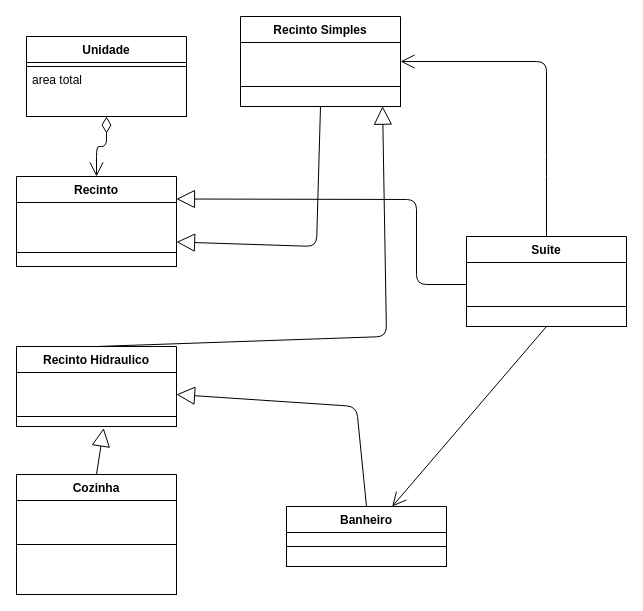
Some shapes in this 643 by 611 pixel diagram are drawn without their labels. The centre of each missing label's shape, as x and y in pixels:
largura profundidade: point (320, 64)
nome: point (96, 227)
numero registros: point (96, 394)
quarto banheiro: point (546, 284)
